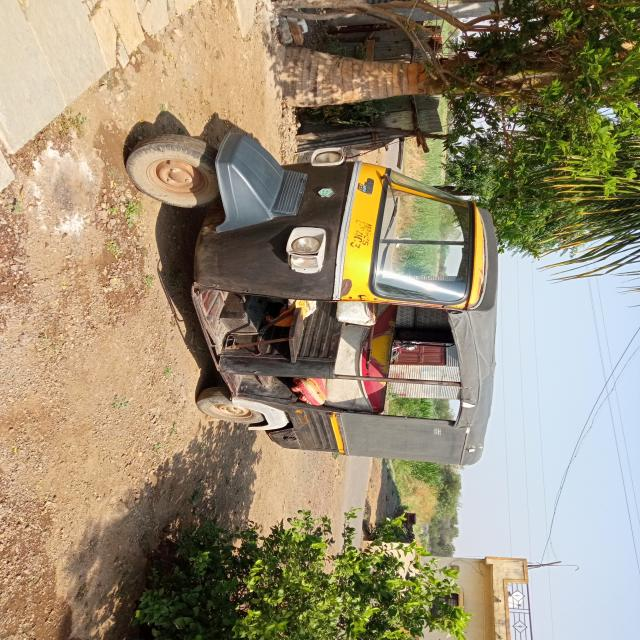tempo: (100, 88, 524, 493)
